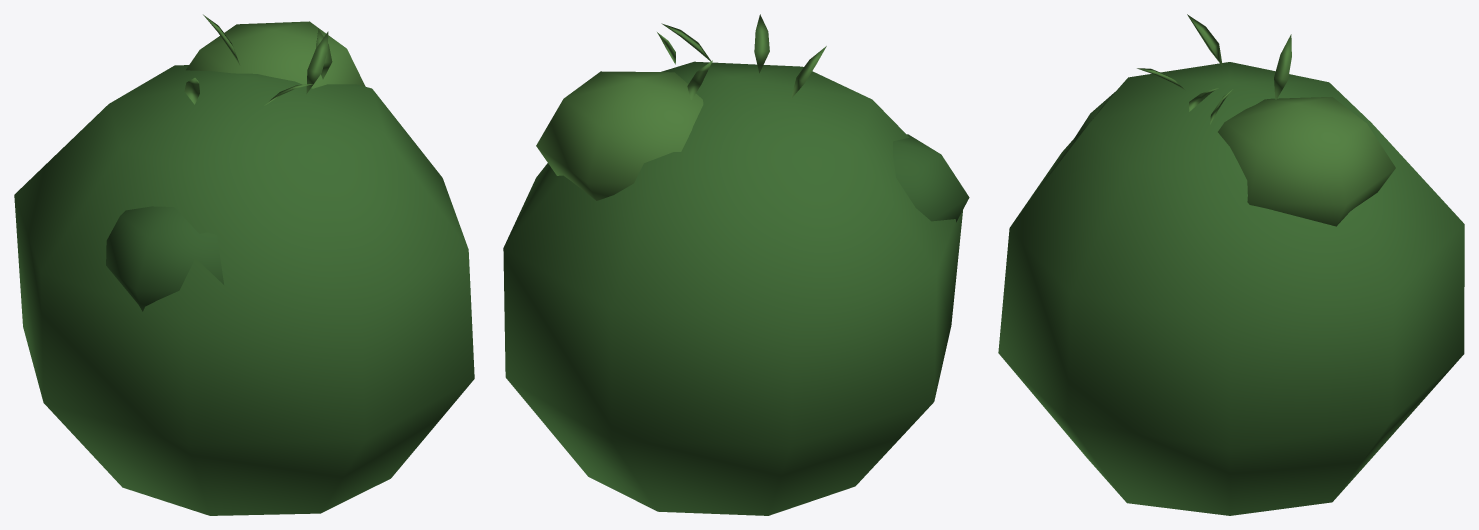
The model's file is boxwood.far.glb.
The picture shows the model from 3 angles, left to right: view 1: azimuth 30°, elevation 25°; view 2: azimuth 150°, elevation 25°; view 3: azimuth 270°, elevation 25°; orthographic projection. The views are drawn at different scales.
Visible parts, largest first — view 1: boxwood; view 2: boxwood; view 3: boxwood.
Boxes of the visible parts, x1=… form: boxwood: x1=14, y1=14, x2=474, y2=515; boxwood: x1=503, y1=14, x2=969, y2=515; boxwood: x1=998, y1=14, x2=1464, y2=515.
Bounding box in the file's own units: 0.6904 × 0.7486 × 0.6964.
